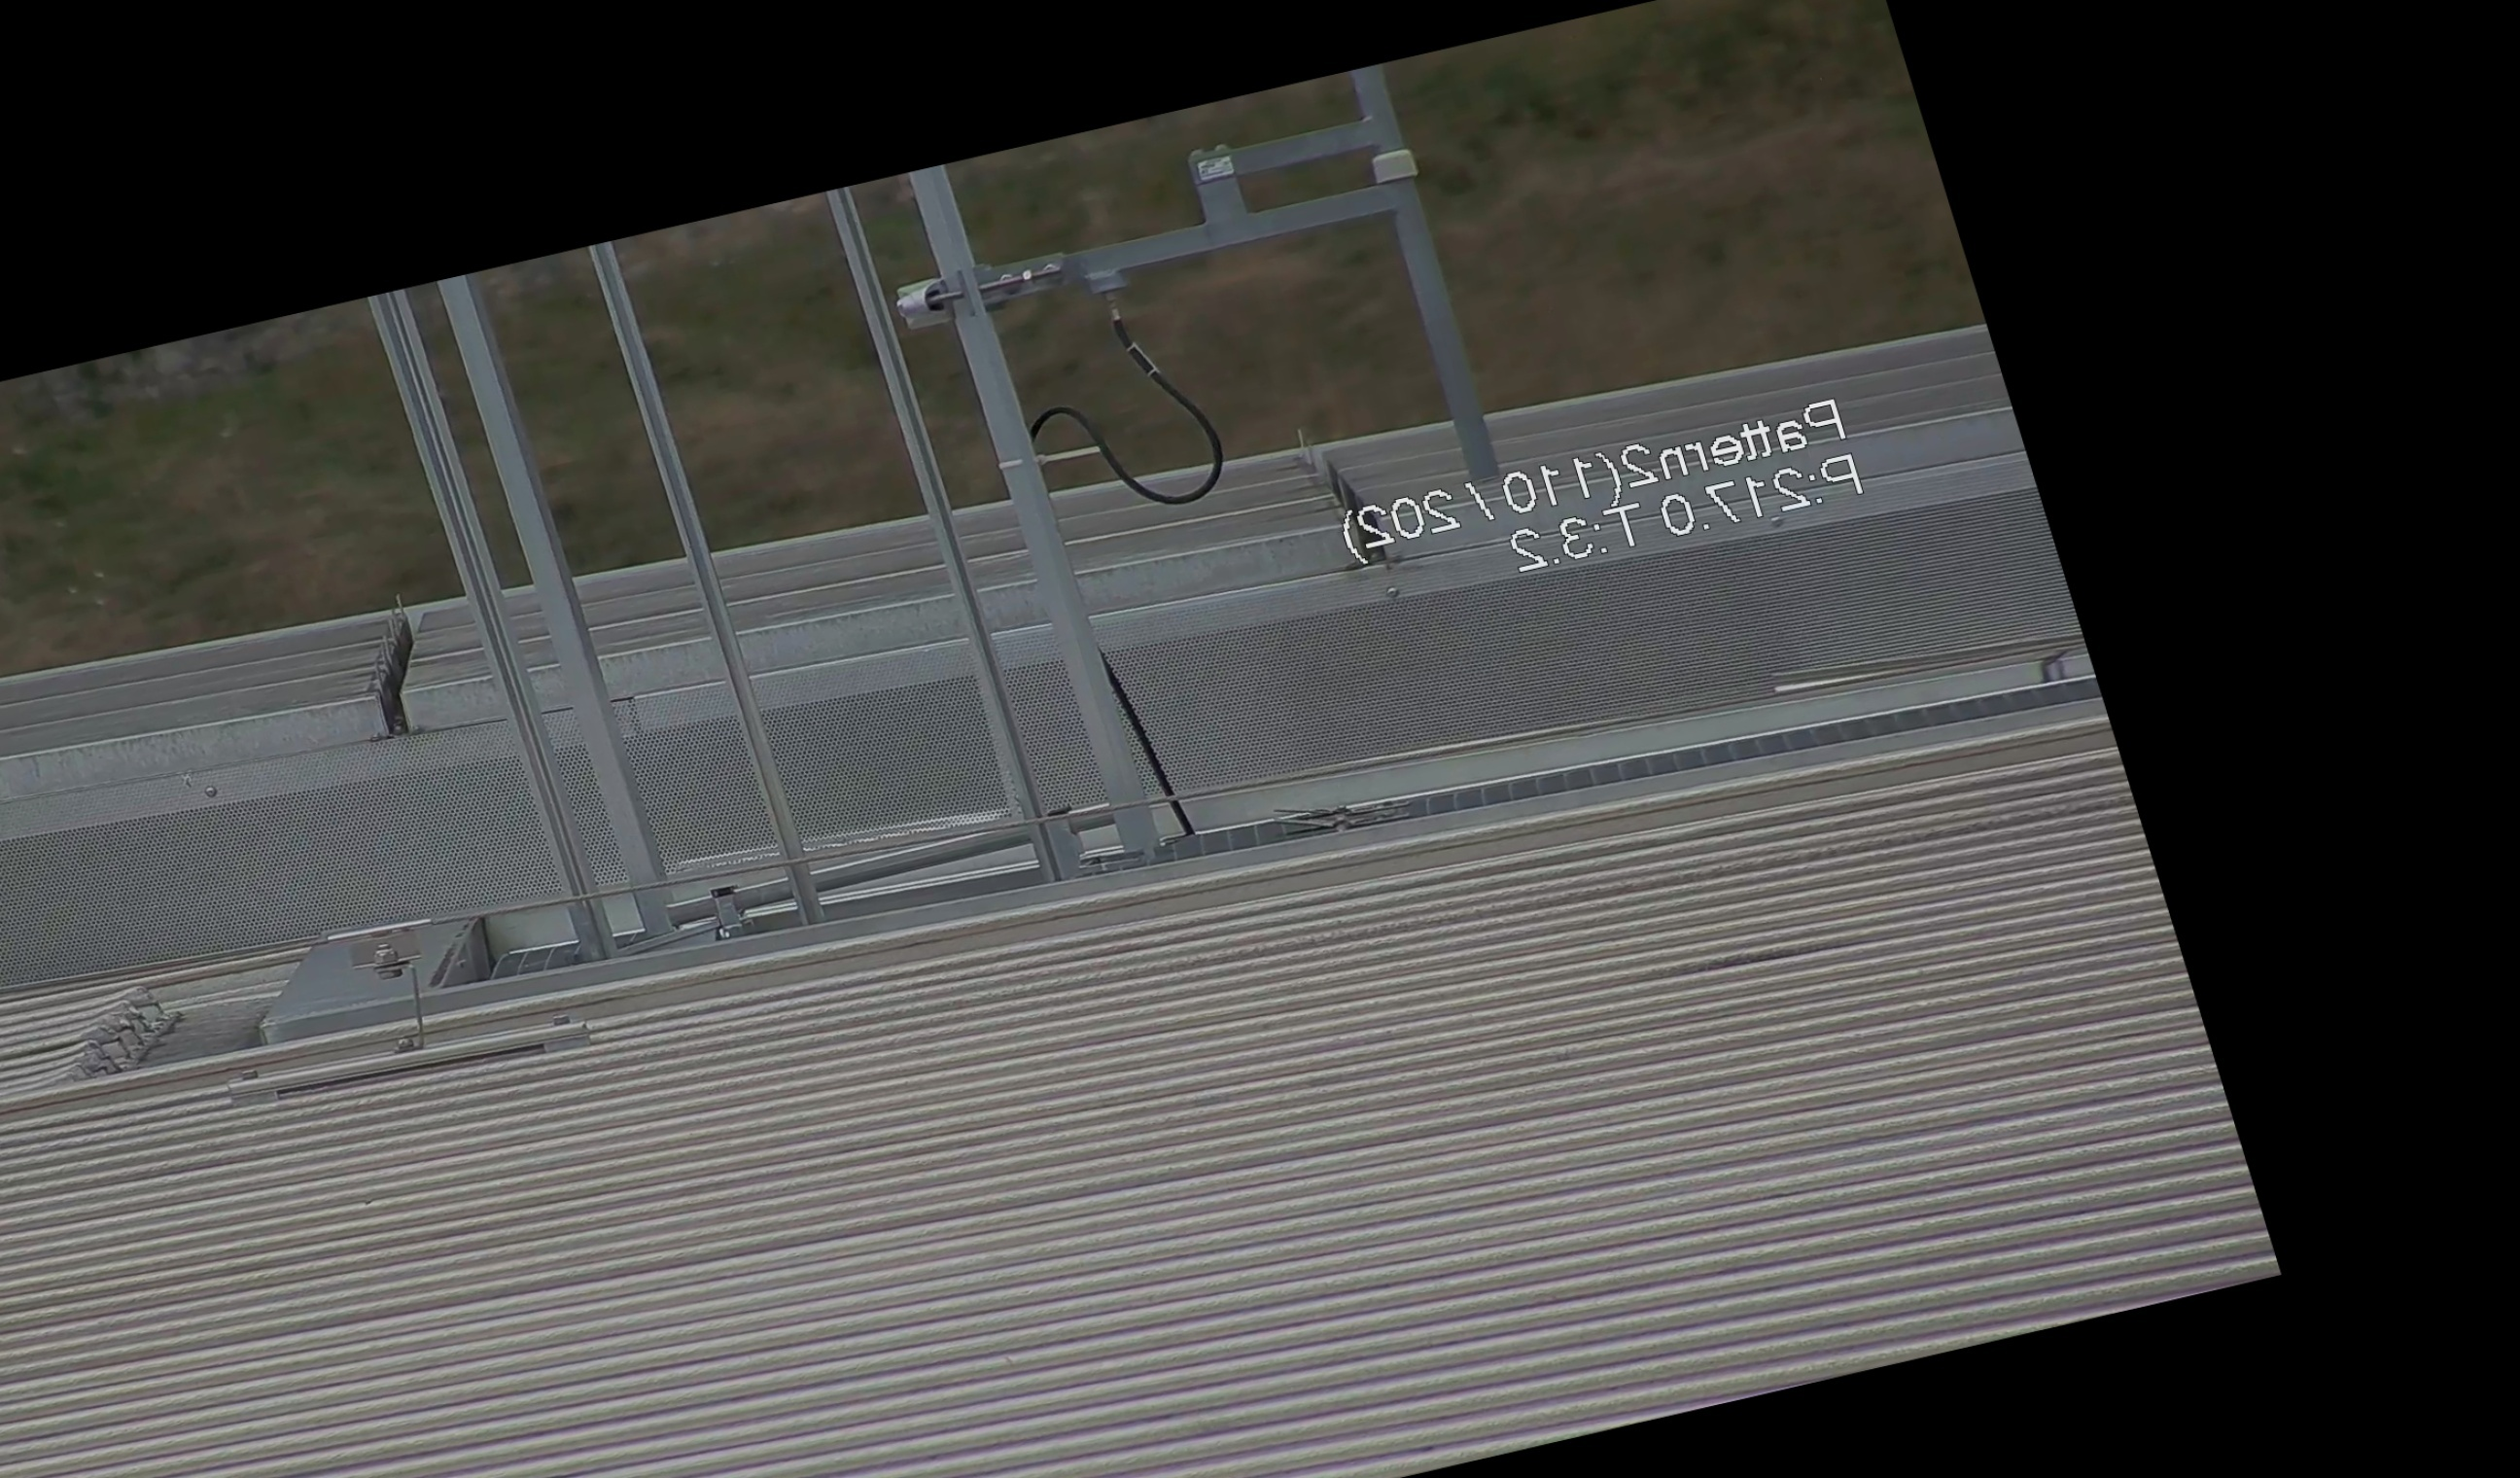Other: (320, 581, 473, 748)
